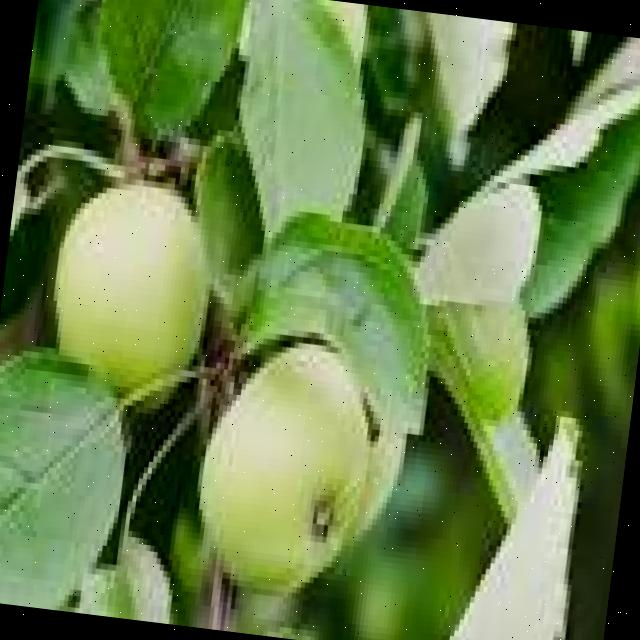Unripe: (188, 328, 380, 604)
